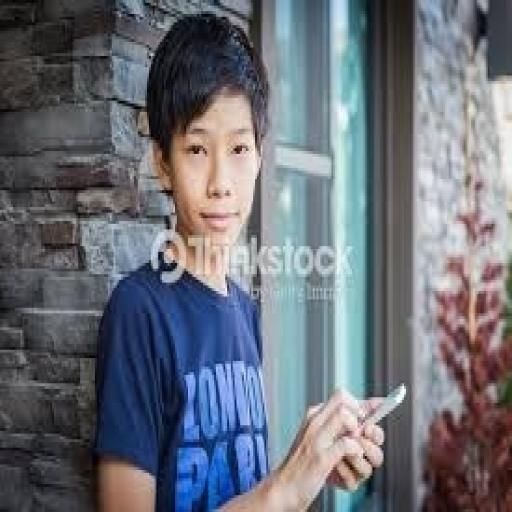texting: (90, 8, 388, 510)
